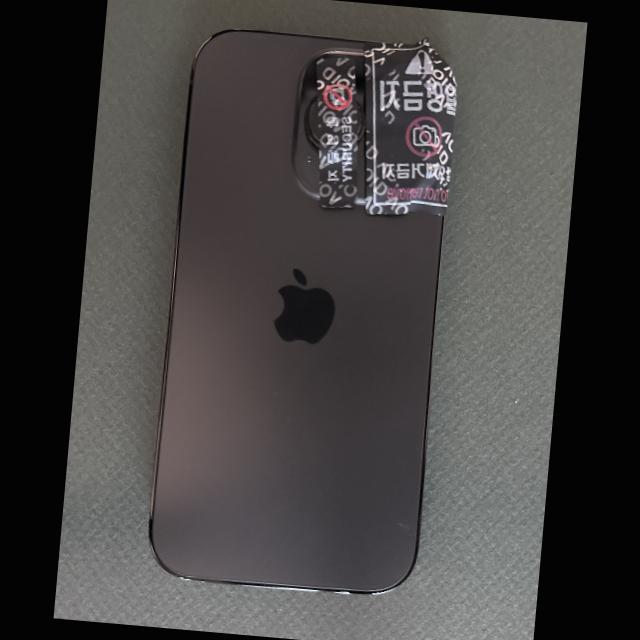lens: (302, 98, 318, 148)
phone: (147, 28, 455, 594)
sticker: (363, 36, 457, 216), (315, 55, 358, 208)
